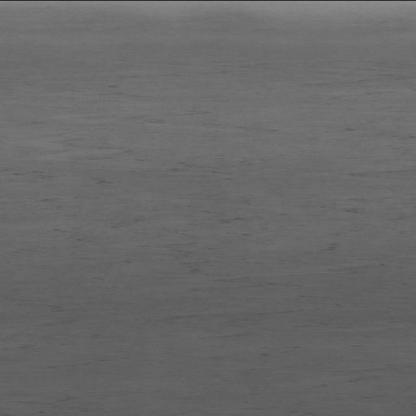silk_spot: (0, 89, 398, 355)
